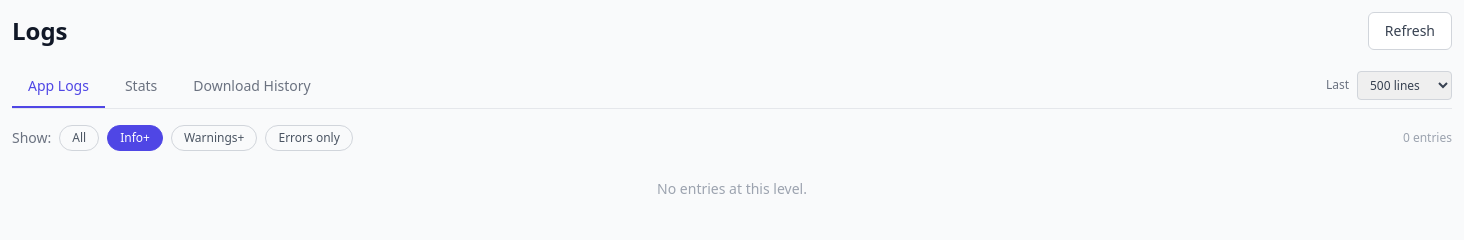
Test: LogsPage › shows everything, DEBUG included, on the All filter
Expected: the text "Cache hit" is not shown
Click the button "All" at (79, 138), box [59, 125, 99, 151]
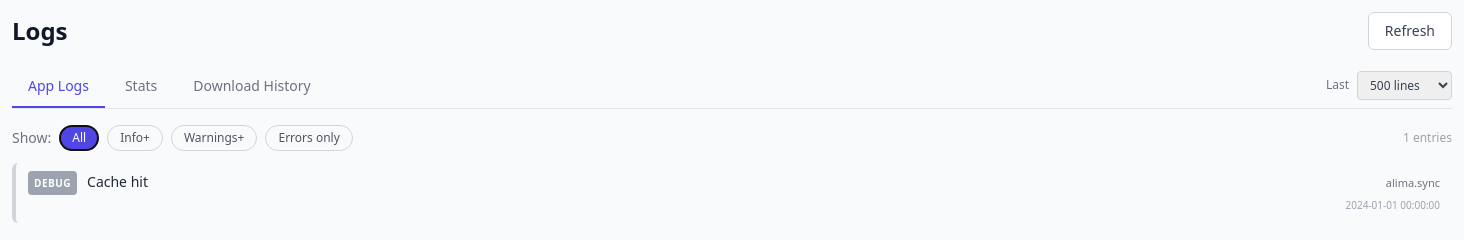
Now the text "Cache hit" is shown, box [87, 172, 148, 191]
